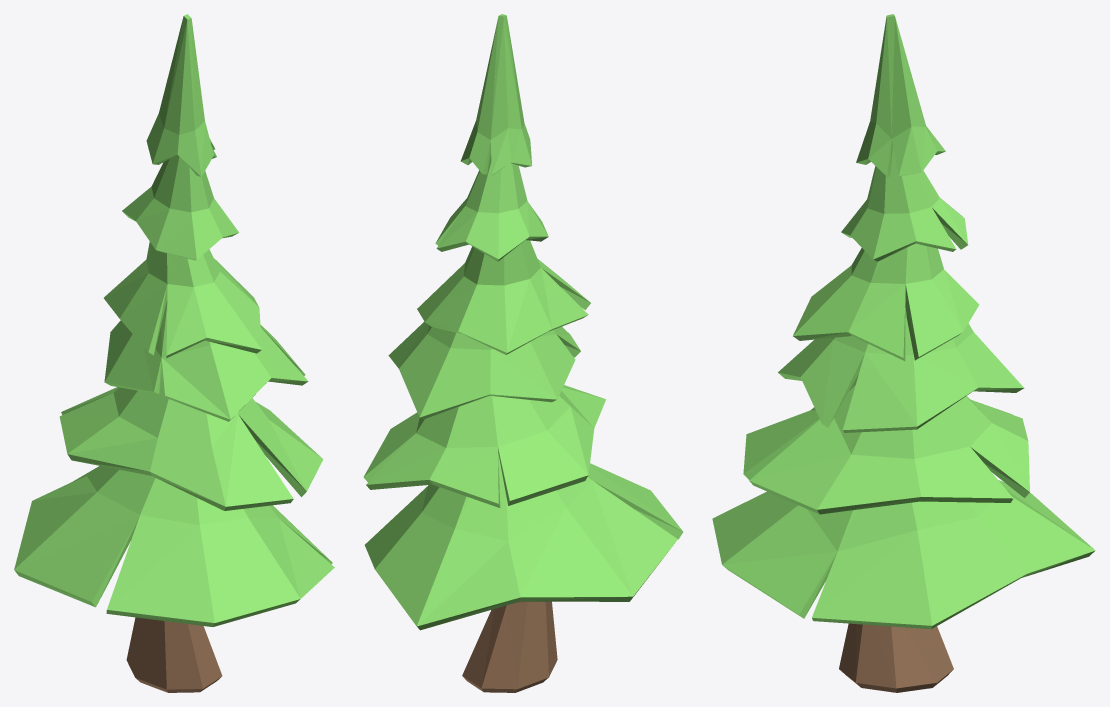
The model's file is tree.gltf.
3 views of the same model, side by side, from view 1: azimuth 30°, elevation 25°; view 2: azimuth 150°, elevation 25°; view 3: azimuth 270°, elevation 25° (orthographic).
Visible parts, largest first — view 1: Object_2, Object_3; view 2: Object_2, Object_3; view 3: Object_2, Object_3.
Part boxes in pixels (<box>): Object_2: <box>14,14,334,626</box>; Object_3: <box>126,617,222,692</box>; Object_2: <box>363,14,683,630</box>; Object_3: <box>462,601,557,692</box>; Object_2: <box>712,14,1095,629</box>; Object_3: <box>839,623,953,692</box>.
Size of the model in its own units: 1.8 by 4.19 by 2.19.
